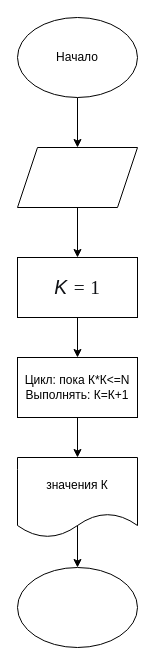
Some shapes in this 155 by 665 pixel diagram are drawn without their labels. The box of each missing label's shape, as (x1, y1, x2, y2) in pixels:
Ввод числа N: (16, 146, 138, 208)
Конец: (16, 566, 138, 648)
